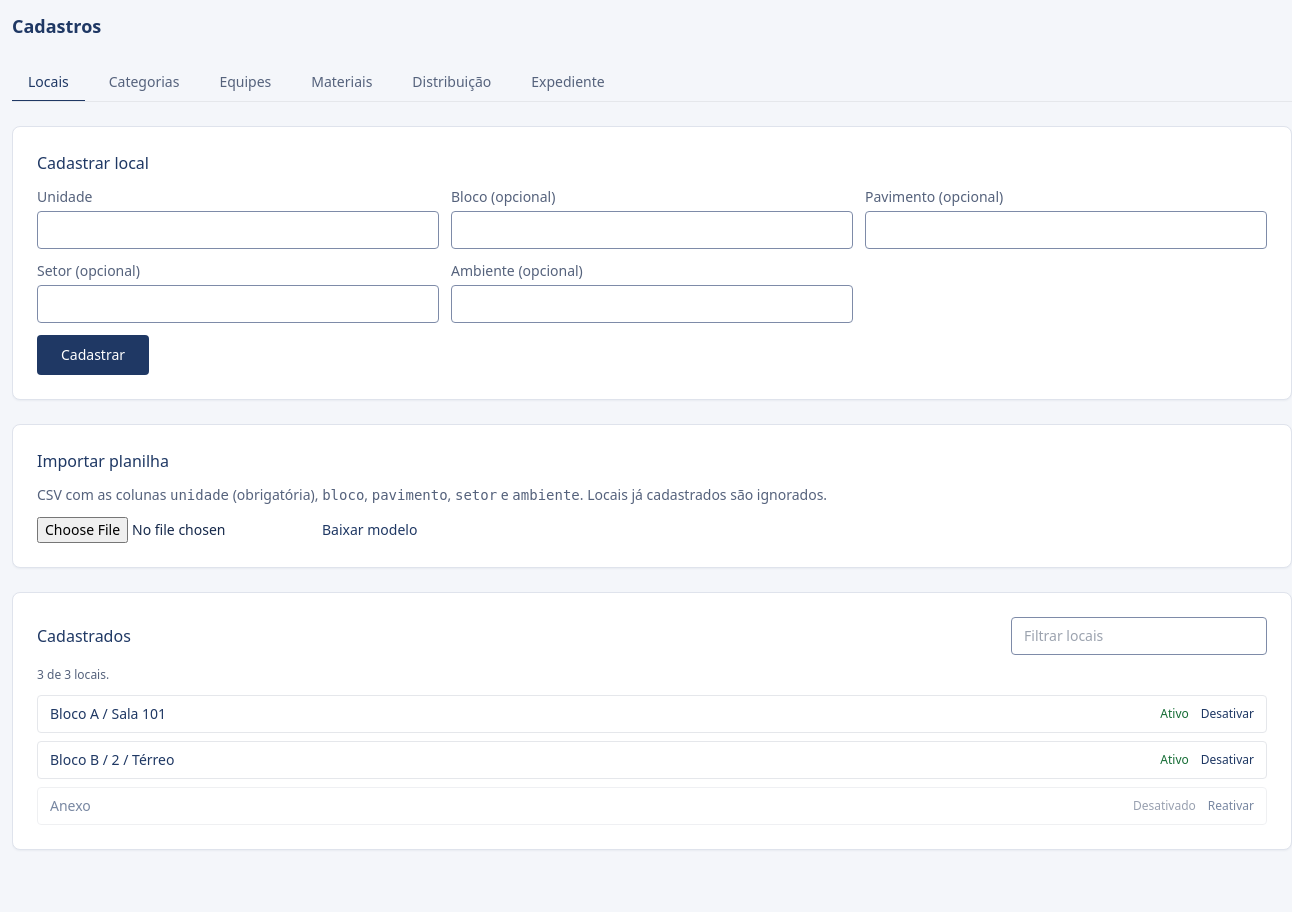
Scenario: Filtro de locais › sem resultado, avisa em vez de mostrar lista vazia
The width and height of the screenshot is (1292, 912).
Expected: the text "3 de 3 locais." is shown, [37,666,109,683]
In the search field with placeholder "Filtrar locais": point(1139, 636) [1011,617,1267,655], type "zzzz"
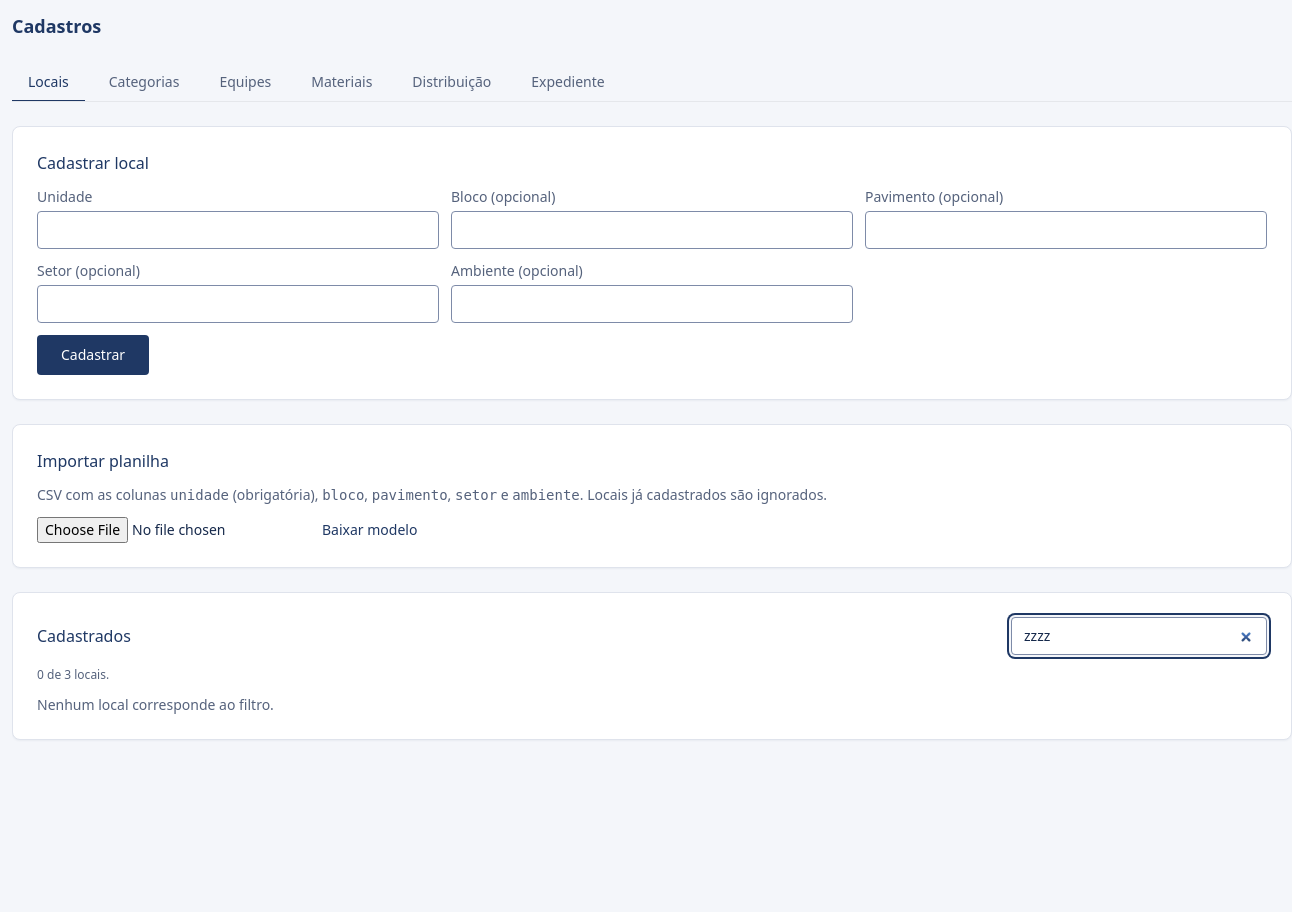
Now the list item "Nenhum local corresponde ao filtro." is shown, box [37,695,274,714]
